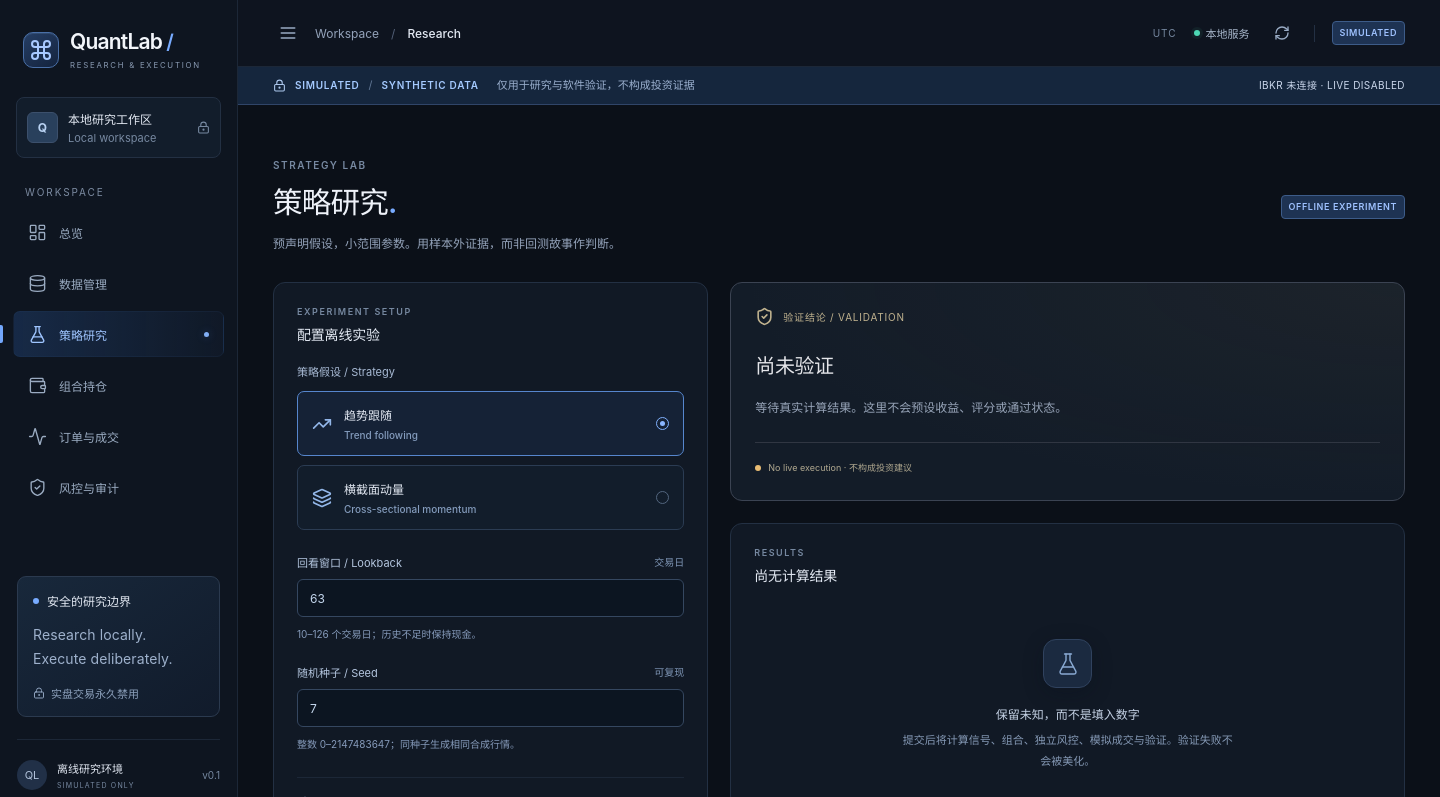
Test: bounded, explicit offline experiment › rejects invalid 回看窗口 9 before any POST
The image size is (1440, 797).
Replace the text in the number field labelled "回看窗口 / Lookback 交易日" with "9": (491, 598) [297,579,684,617]
(page scrolled)
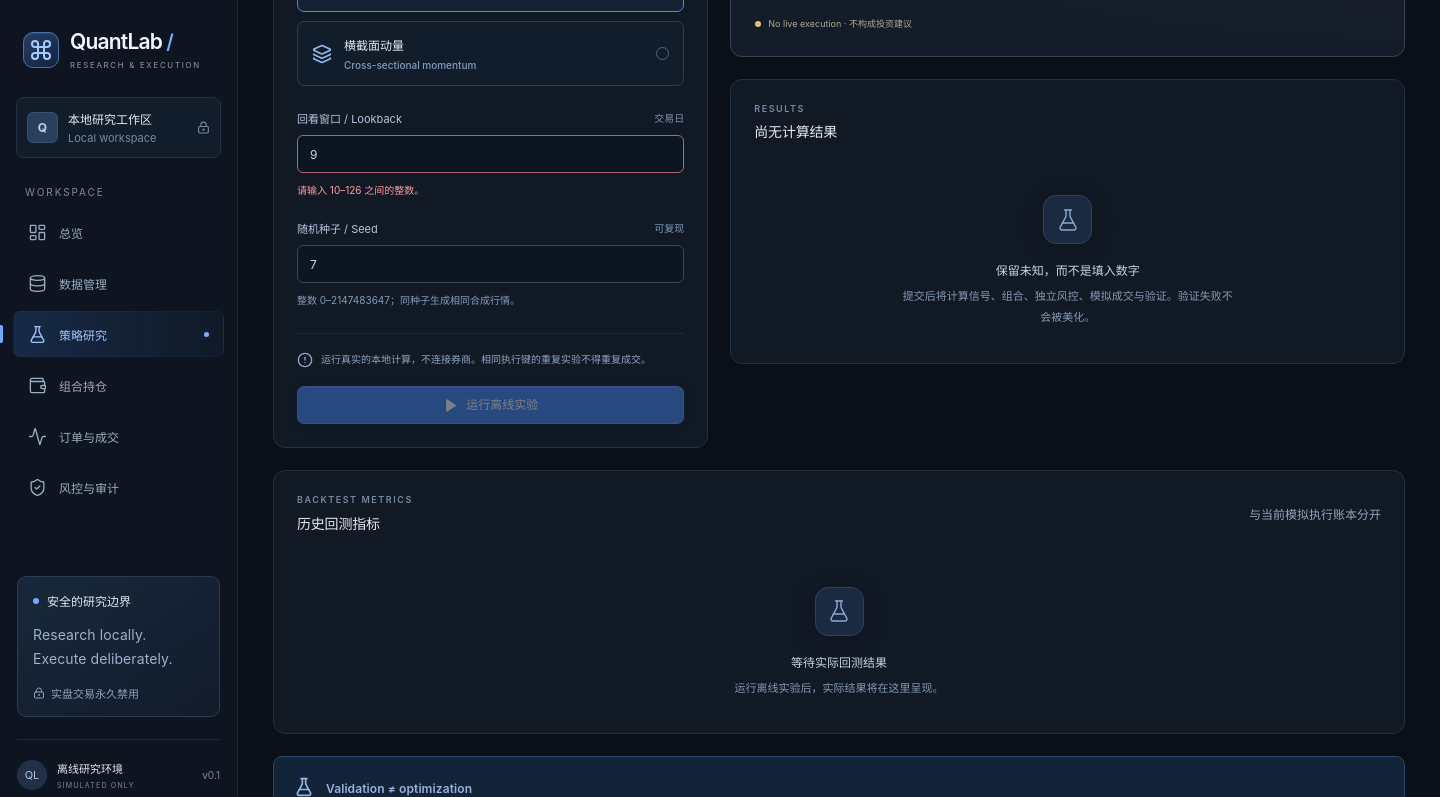
Expected: the button "运行离线实验" is disabled, [297,386,684,424]
